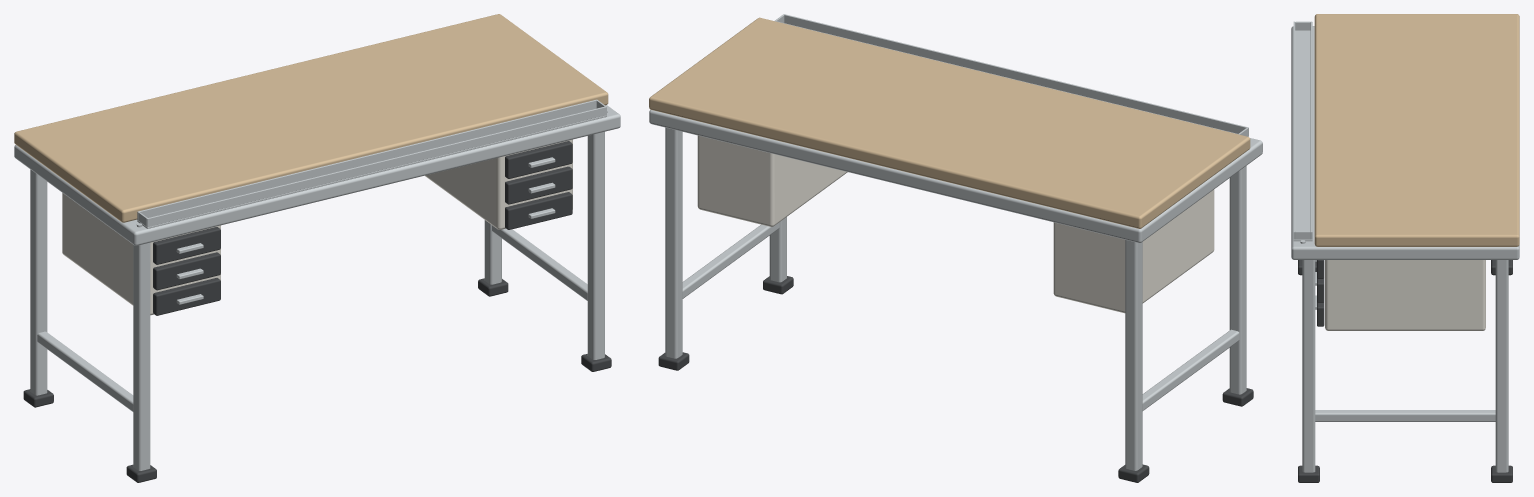
File: camera-repair-and-darkroom-laboratory-repair-bench-wit-d8a531e5__31770.glb
3 views of the same model, side by side, from view 1: azimuth 30°, elevation 25°; view 2: azimuth 150°, elevation 25°; view 3: azimuth 270°, elevation 25° (orthographic). The views are drawn at different scales.
Visible parts, largest first — view 1: repair-bench-with-parts-gutter; view 2: repair-bench-with-parts-gutter; view 3: repair-bench-with-parts-gutter.
Boxes of the visible parts, box(x1,y1,x2,y2) form: repair-bench-with-parts-gutter: box(14, 14, 620, 482); repair-bench-with-parts-gutter: box(649, 14, 1262, 482); repair-bench-with-parts-gutter: box(1291, 14, 1519, 482).
Size of the model in its own units: 1.8 by 0.945 by 0.7799.
